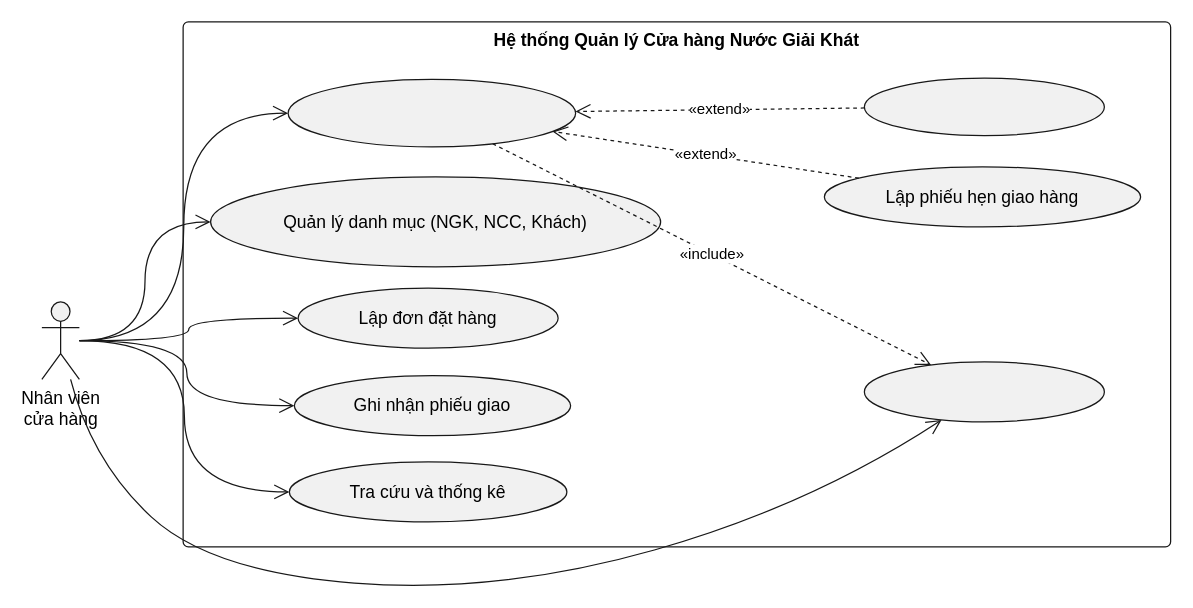
The diagram is 1193 pixels wide and 608 high, and some of its shapes have lost their labels. Each missing label, with the box of its shape:
Kiểm tra tồn kho: (863, 361, 1104, 422)
Lập hóa đơn bán hàng: (287, 78, 576, 147)
Lập phiếu ghi nợ: (863, 77, 1104, 136)
